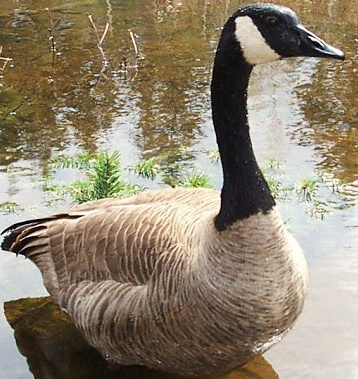goose: (8, 2, 352, 372)
